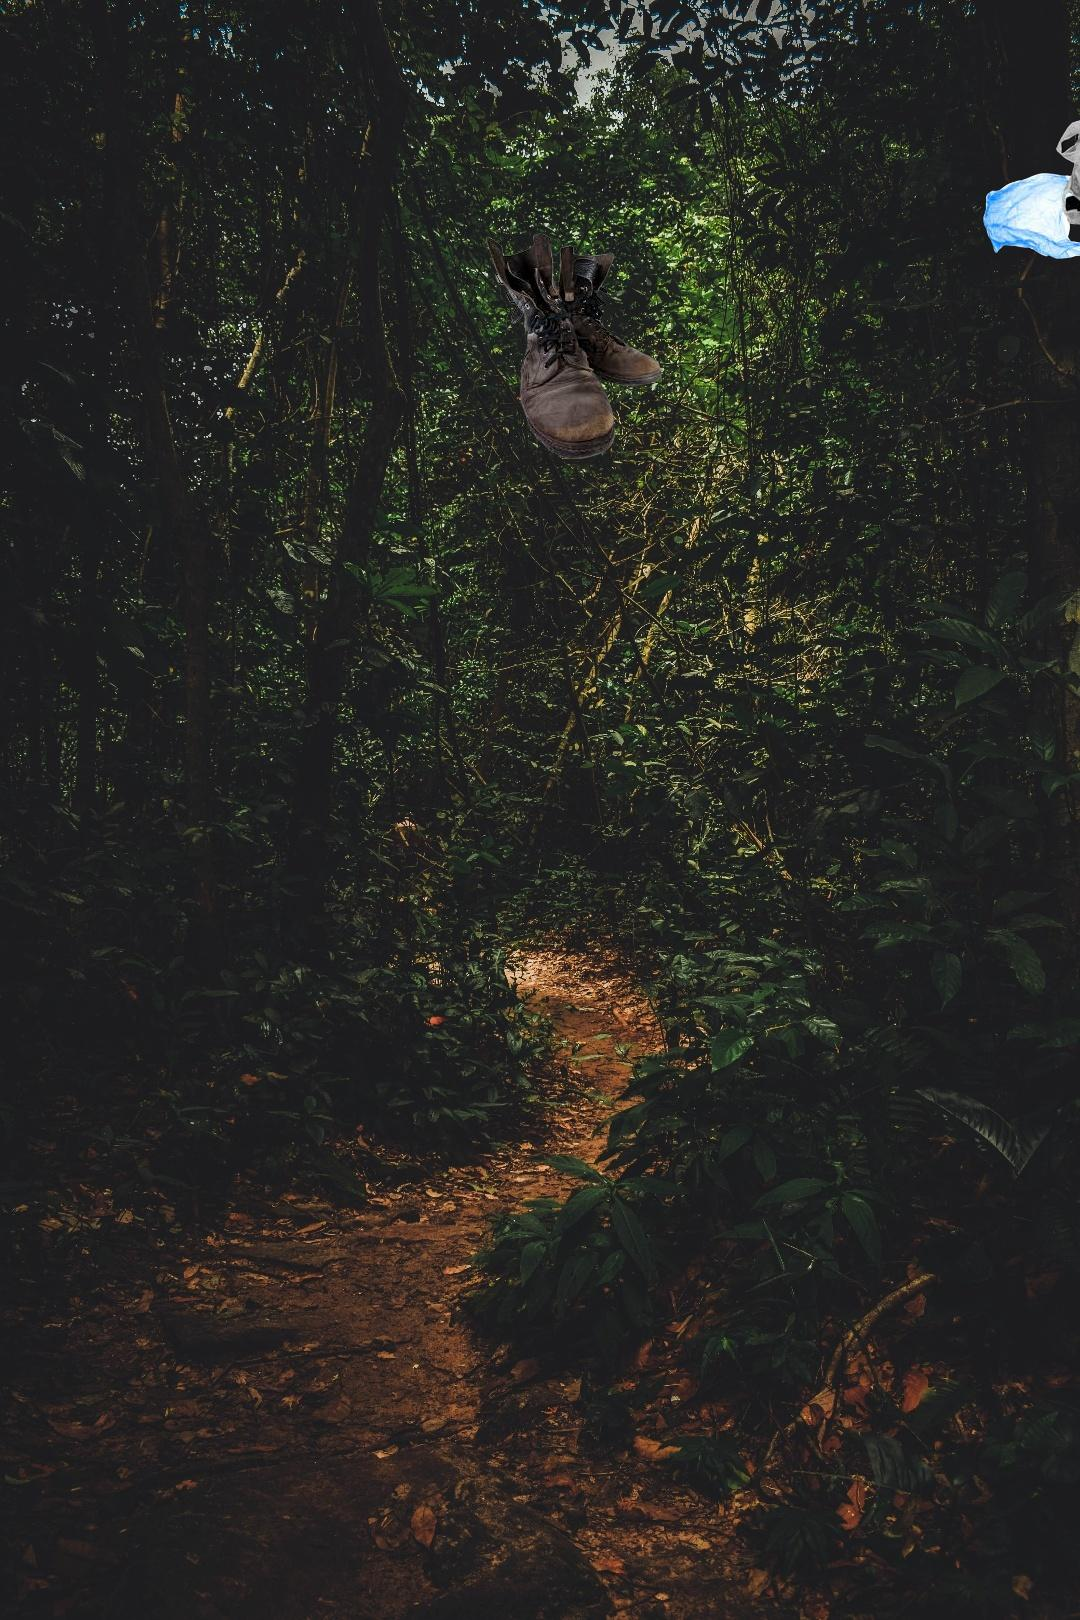plastic-bag: (982, 111, 1080, 262)
shoes: (483, 231, 667, 462)
